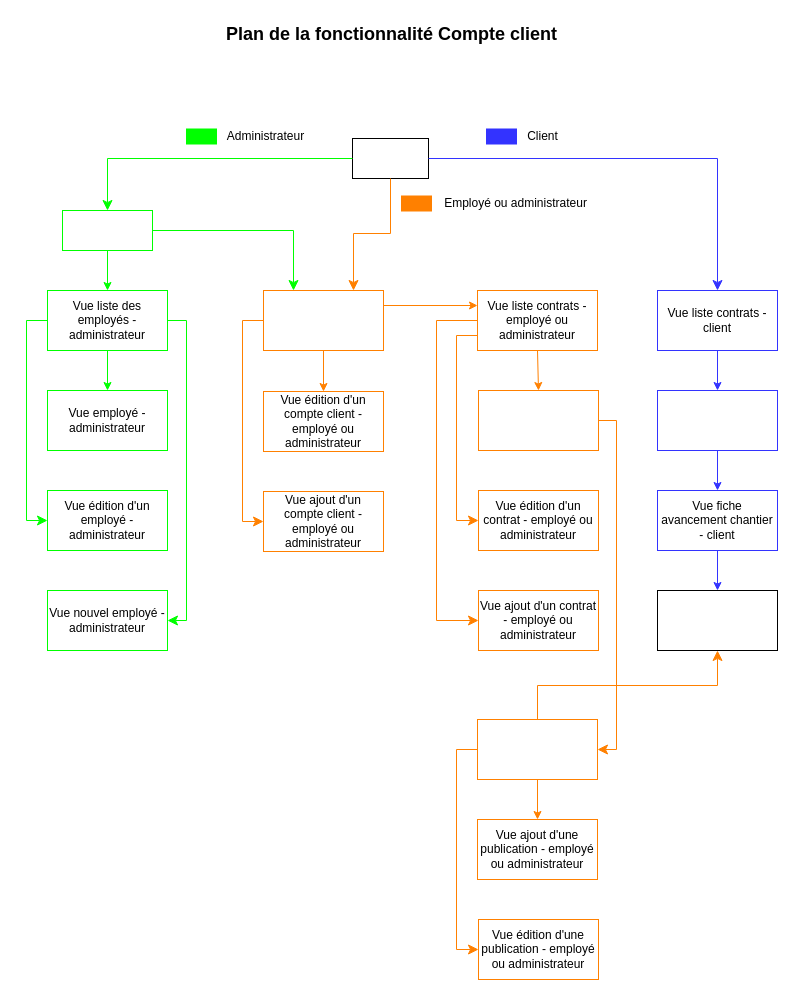
Image size: 795x997. Some labels were removed from this diagram. Each missing label, with the centre of its shape:
"Accueil connexion" belongs at point 390,158.
"Vue administrateur" belongs at point 107,230.
"Vue ajout d'un commentaire" belongs at point 717,620.
"Vue contrat - client" belongs at point 717,420.
"Vue contrat - employé ou administrateur" belongs at point 538,420.
"Vue fiche avancement chantier - employé ou administrateur" belongs at point 537,749.
"Vue liste des comptes clients - employé ou administrateur" belongs at point 323,320.
